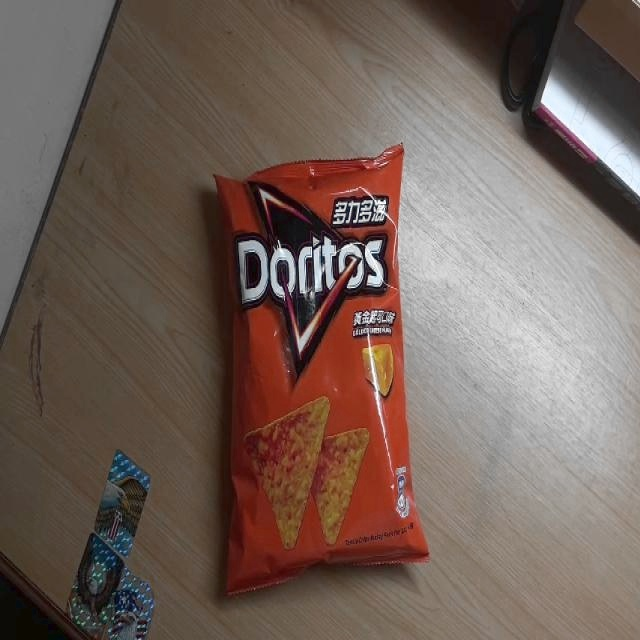Doritos: (212, 142, 430, 596)
